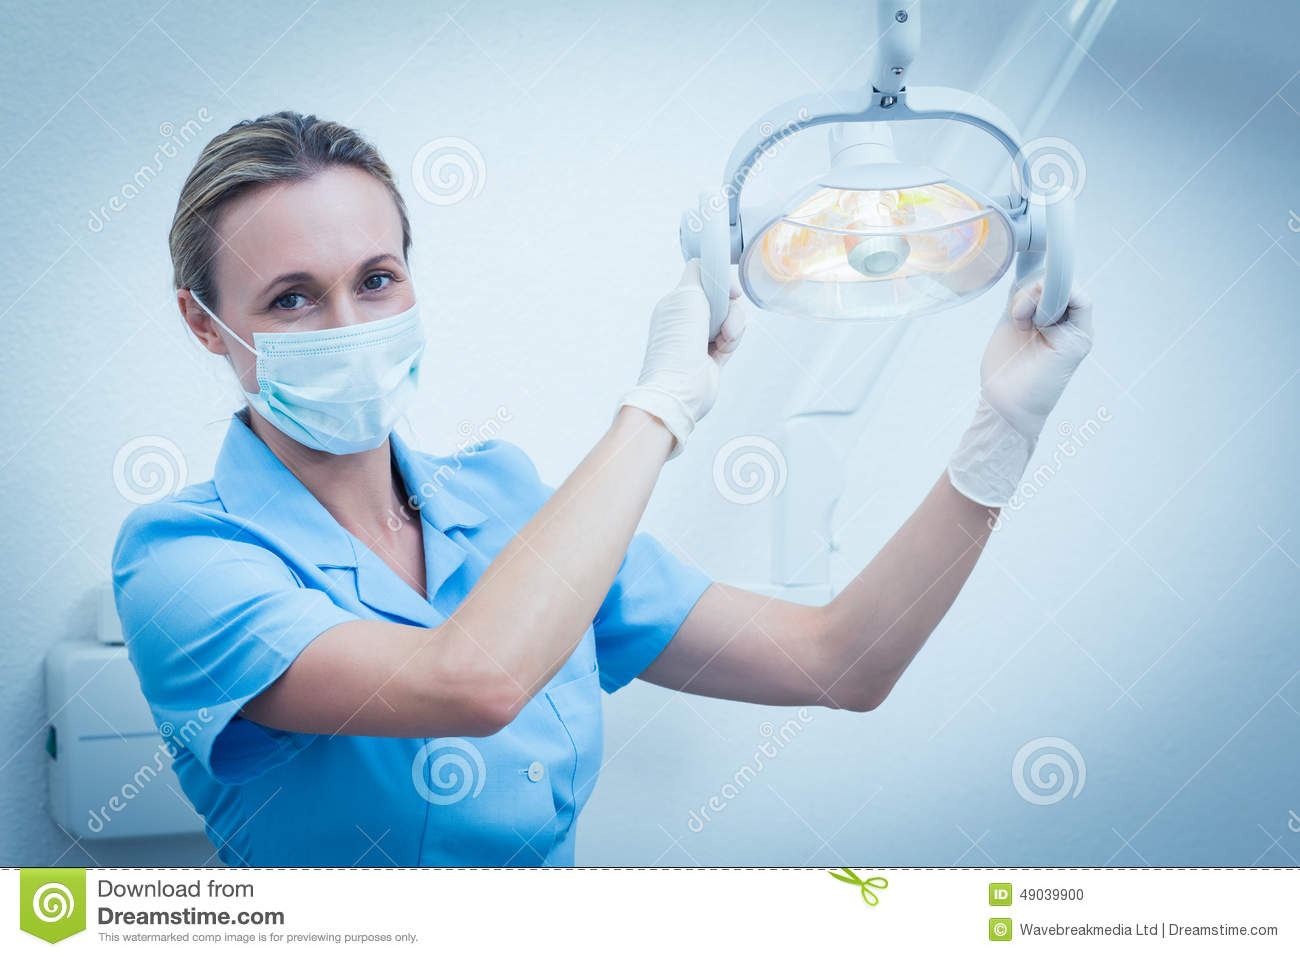mask: (239, 305, 448, 448)
